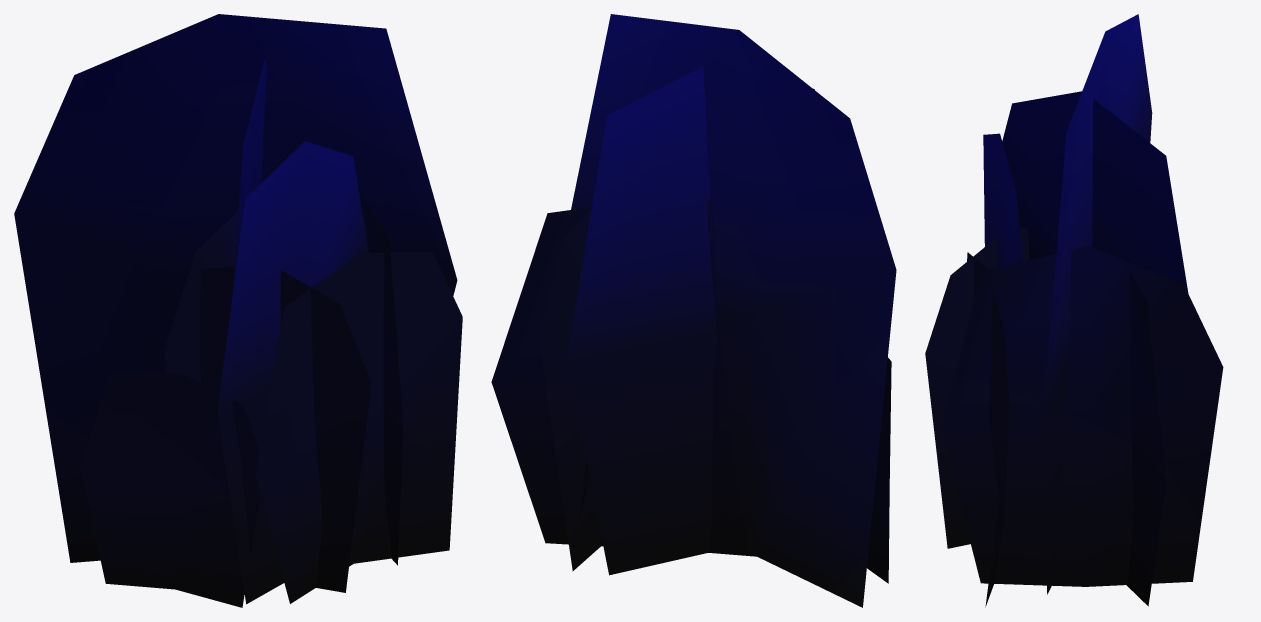
The model's file is SM_Grass_M_Patch_S_04.fbx.
3 renders of one model, left to right at view 1: azimuth 30°, elevation 25°; view 2: azimuth 150°, elevation 25°; view 3: azimuth 270°, elevation 25°, orthographic. The views are drawn at different scales.
Parts seen in each view (by area): view 1: SM_Grass_M_Patch_S_04; view 2: SM_Grass_M_Patch_S_04; view 3: SM_Grass_M_Patch_S_04.
Part boxes in pixels (bbox=[...]): SM_Grass_M_Patch_S_04: bbox=[14, 14, 462, 607]; SM_Grass_M_Patch_S_04: bbox=[491, 14, 896, 607]; SM_Grass_M_Patch_S_04: bbox=[925, 14, 1223, 607].
Size of the model in its own units: 107 by 81.01 by 142.
